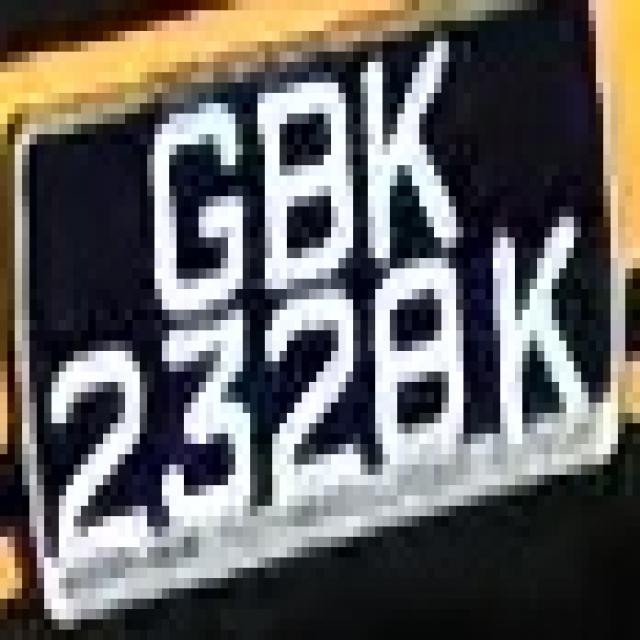2: (243, 248, 375, 537), (22, 320, 147, 557)
3: (132, 289, 258, 588)
8: (361, 217, 464, 495)
B: (235, 62, 346, 330)
G: (118, 83, 242, 351)
K: (486, 196, 603, 454), (338, 31, 456, 268)
